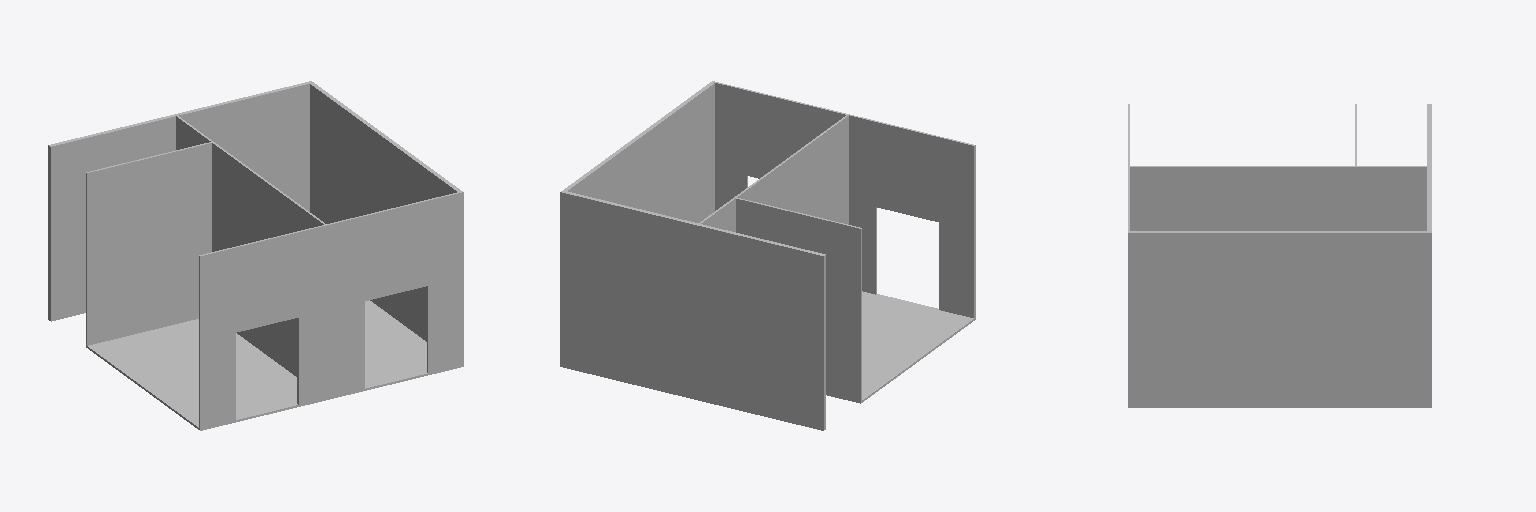
The model's file is 2x2 second-2.obj.
The picture shows the model from 3 angles: view 1: azimuth 30°, elevation 25°; view 2: azimuth 150°, elevation 25°; view 3: azimuth 270°, elevation 25°; orthographic projection.
Parts seen in each view (by area): view 1: 2x2 second-2; view 2: 2x2 second-2; view 3: 2x2 second-2.
Part boxes in pixels (left/top/right/bottom): 2x2 second-2: left=48, top=81, right=463, bottom=430; 2x2 second-2: left=560, top=81, right=975, bottom=430; 2x2 second-2: left=1128, top=104, right=1431, bottom=407.
Bounding box in the file's own units: 126 × 80 × 126.